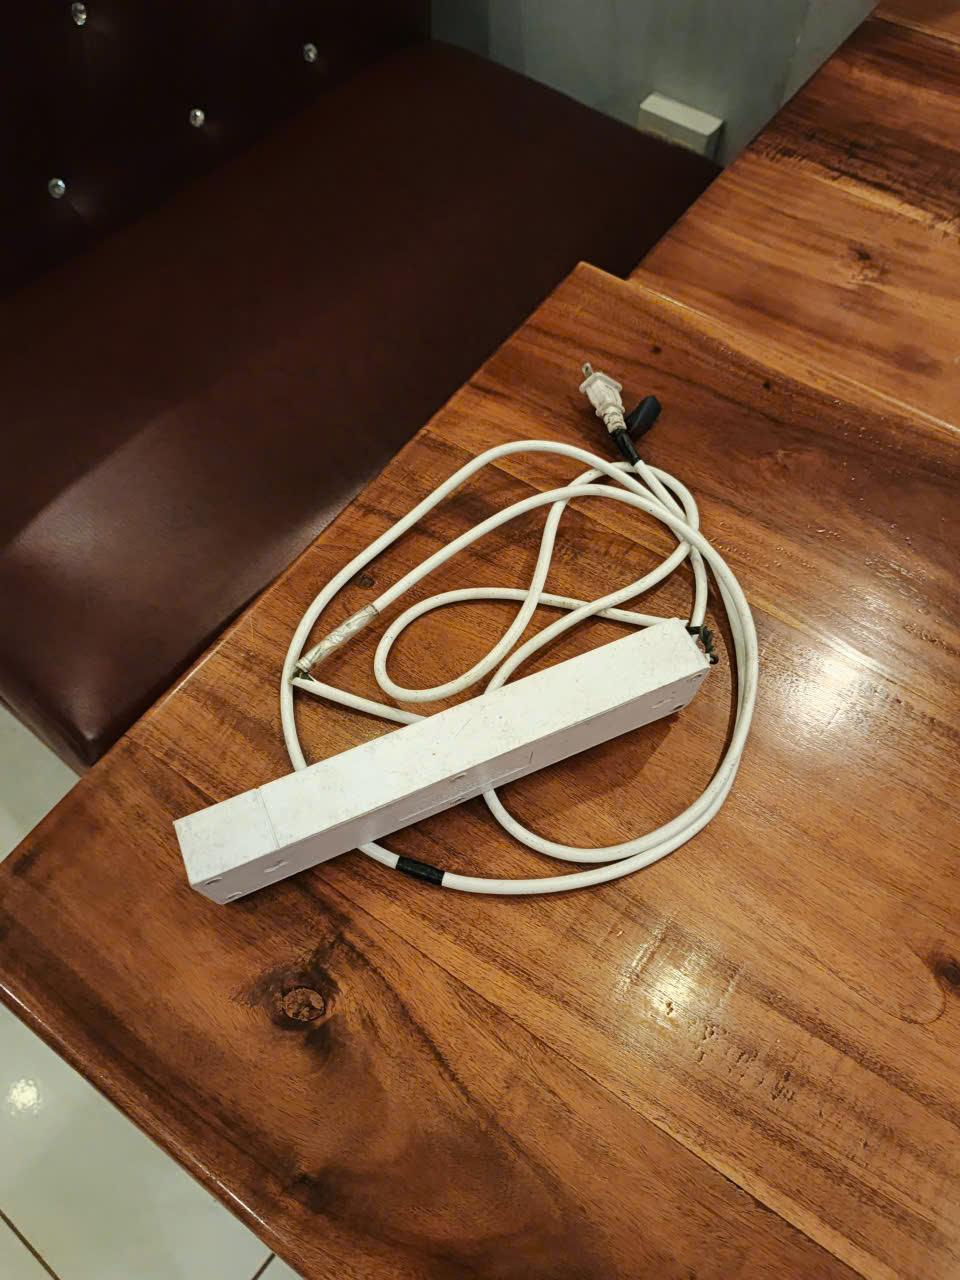Con lai: (175, 358, 758, 903)
